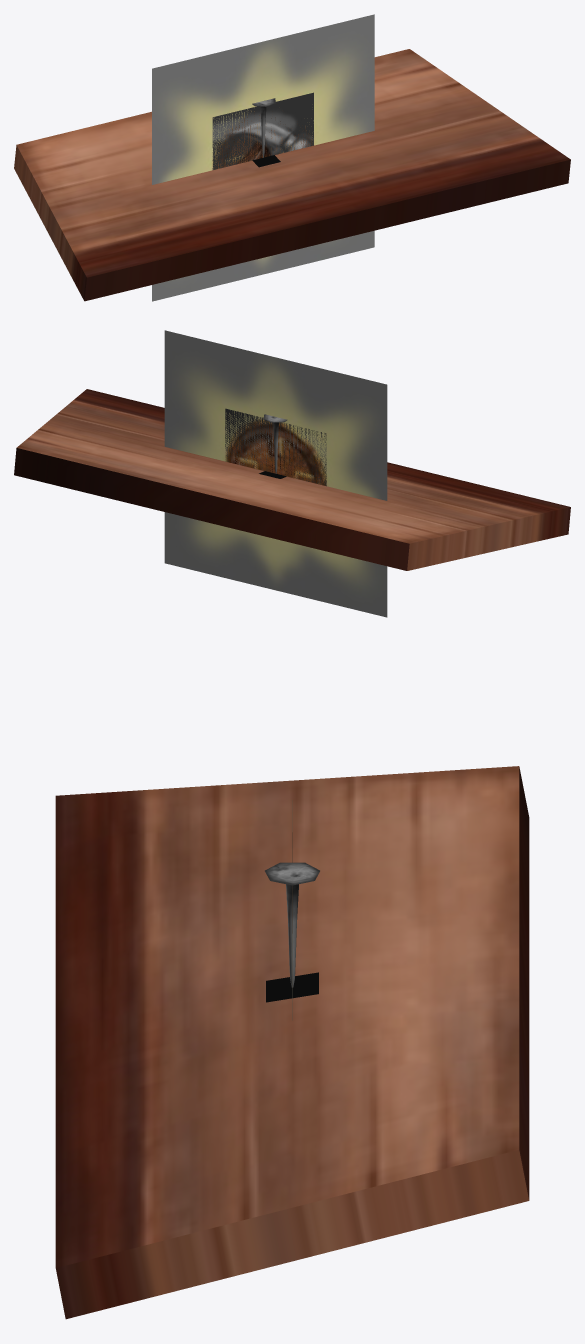
Rendered from pir_m_gui_srp_hammering_main.fbx.
The picture shows the model from 3 angles, top to bottom: view 1: azimuth 30°, elevation 25°; view 2: azimuth 150°, elevation 25°; view 3: azimuth 270°, elevation 25°; orthographic projection. The views are drawn at different scales.
Parts seen in each view (by area): view 1: wood, reticleCursorPerfect, hammerCursor; view 2: wood, reticleCursorPerfect, hammerCursor; view 3: wood, nail_model, shadow.
Part boxes in pixels (<box>): wood: <box>14,49,570,301</box>; reticleCursorPerfect: <box>152,14,374,301</box>; hammerCursor: <box>212,92,313,169</box>; wood: <box>14,389,570,570</box>; reticleCursorPerfect: <box>164,330,387,617</box>; hammerCursor: <box>225,408,326,485</box>; wood: <box>55,766,529,1319</box>; nail_model: <box>265,862,319,987</box>; shadow: <box>266,972,318,1002</box>.
Bounding box in the file's own units: 125 × 57.35 × 52.81.
4 materials, 4 textured.
